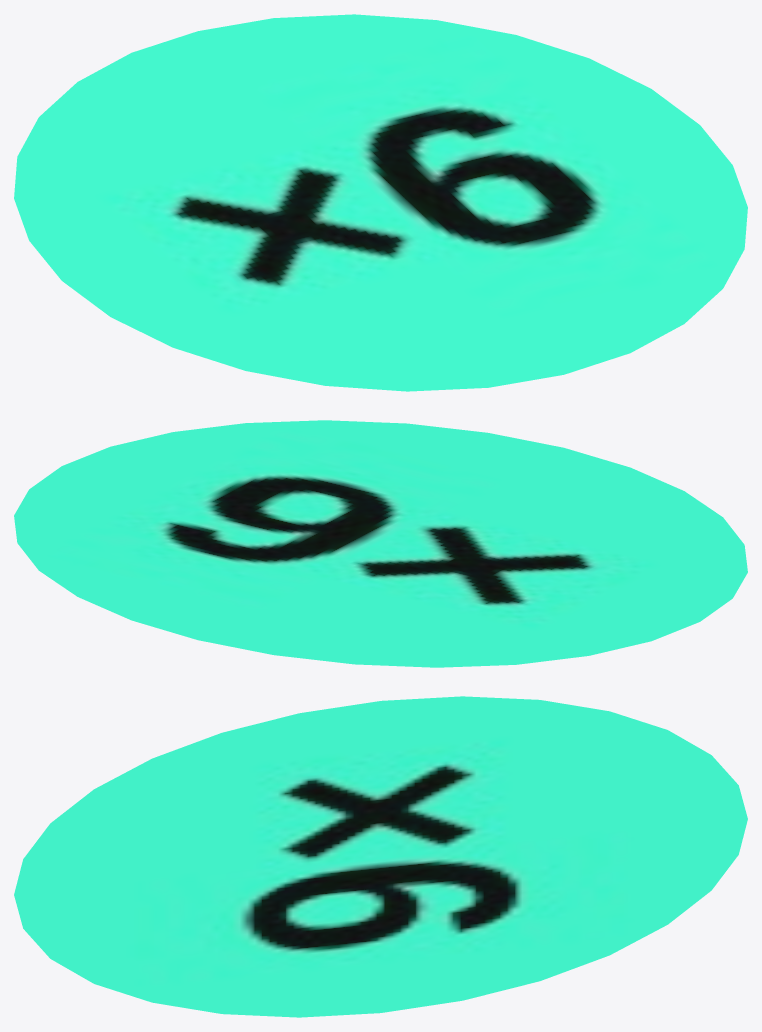
Rendered from pp_light_mult6.glb.
3 views of the same model, one above another, from view 1: azimuth 30°, elevation 25°; view 2: azimuth 150°, elevation 25°; view 3: azimuth 270°, elevation 25° (orthographic).
Visible parts, largest first — view 1: MultLight; view 2: MultLight; view 3: MultLight.
Boxes of the visible parts, bbox=[...] form: MultLight: bbox=[14, 14, 747, 391]; MultLight: bbox=[14, 420, 747, 667]; MultLight: bbox=[14, 696, 747, 1017].
Bounding box in the file's own units: 0.025 × 0.00283 × 0.0248.
Materials: 1 (1 with a texture image).
